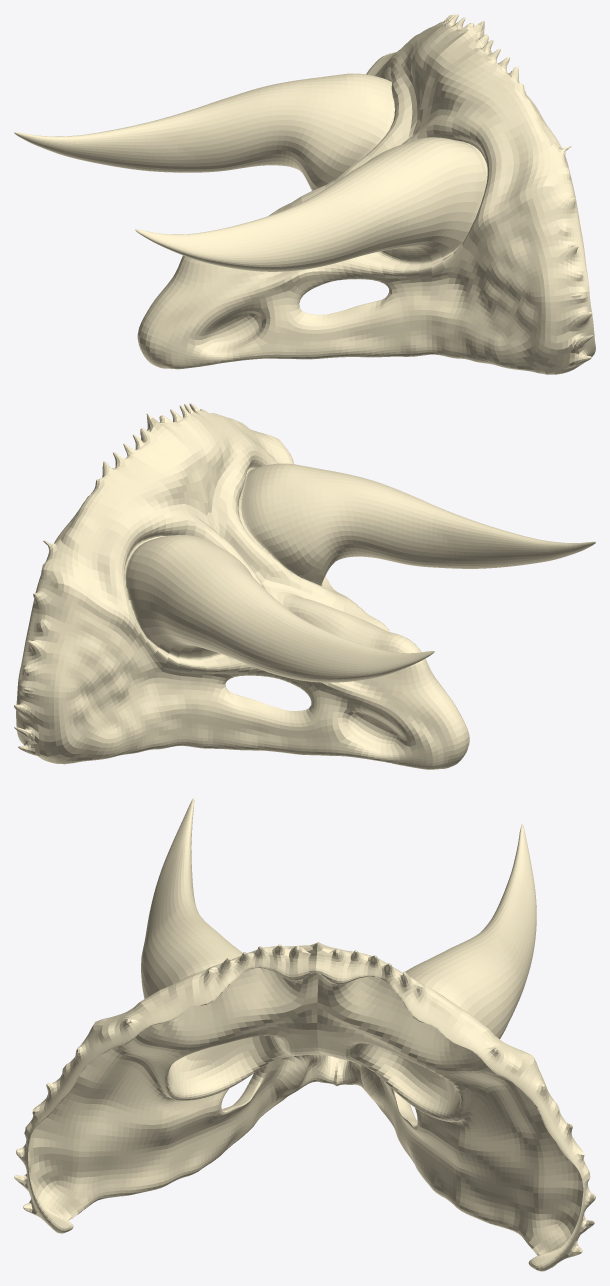
File: JSwift_DinoSkull.fbx
The picture shows the model from 3 angles, top to bottom: view 1: azimuth 30°, elevation 25°; view 2: azimuth 150°, elevation 25°; view 3: azimuth 270°, elevation 25°; orthographic projection. The views are drawn at different scales.
Visible parts, largest first — view 1: Group38021; view 2: Group38021; view 3: Group38021.
Part boxes in pixels (x1,y1,x2,y2): Group38021: [14, 14, 595, 374]; Group38021: [14, 403, 595, 769]; Group38021: [14, 798, 595, 1271].
Bounding box in the file's own units: 4.22 × 2.62 × 4.26.
